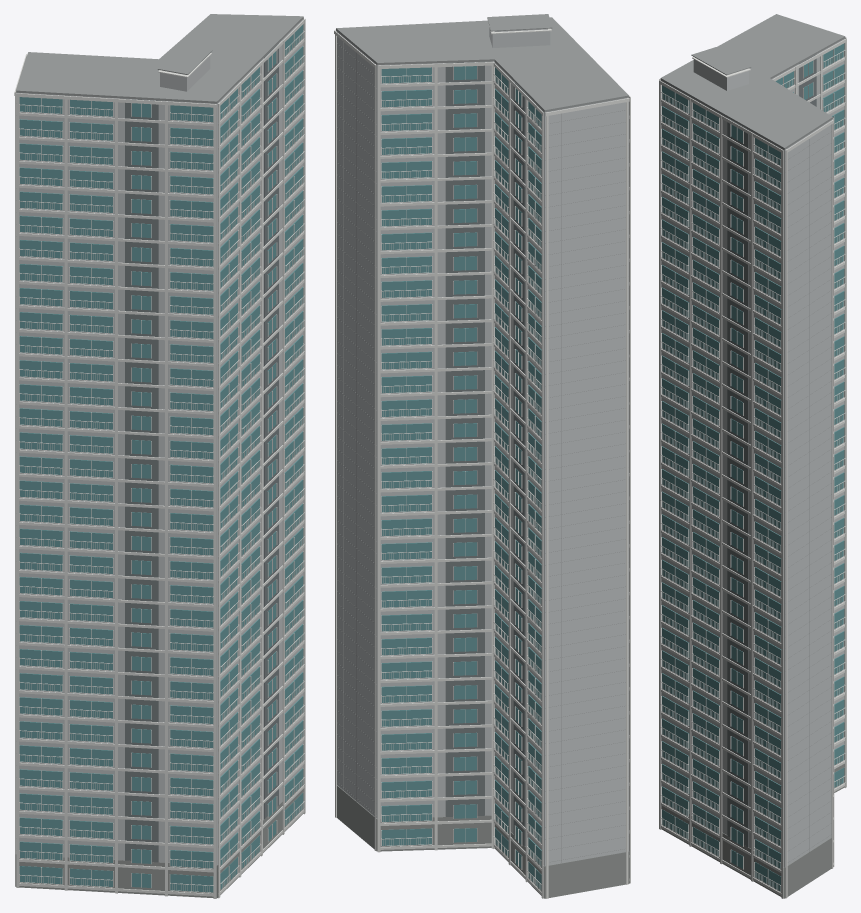
Rendered from bespoke-jamsil-ricenz-246.glb.
3 views of the same model, side by side, from view 1: azimuth 30°, elevation 25°; view 2: azimuth 150°, elevation 25°; view 3: azimuth 270°, elevation 25° (orthographic). The views are drawn at different scales.
Parts seen in each view (by area): view 1: Ricenz246_editable_Ricenz246_turquoise_balcony_glazing, Ricenz246_editable_Ricenz246_light_grey_solid_wall, Ricenz246_white_exact_chunk_1, Ricenz246_white_exact_chunk_0, Ricenz246_editable_Ricenz246_narrow_charcoal_service_strips, Ricenz246_white_exact_chunk_2, Ricenz246_white_exact_chunk_3, Ricenz246_editable_Ricenz246_modest_grey_flat_roof_caps, Ricenz246_editable_Ricenz246_muted_ground_wall; view 2: Ricenz246_editable_Ricenz246_light_grey_solid_wall, Ricenz246_editable_Ricenz246_turquoise_balcony_glazing, Ricenz246_white_exact_chunk_3, Ricenz246_editable_Ricenz246_narrow_charcoal_service_strips, Ricenz246_white_exact_chunk_4, Ricenz246_editable_Ricenz246_modest_grey_flat_roof_caps, Ricenz246_editable_Ricenz246_muted_ground_wall, Ricenz246_white_exact_chunk_0, Ricenz246_white_exact_chunk_1; view 3: Ricenz246_editable_Ricenz246_light_grey_solid_wall, Ricenz246_editable_Ricenz246_turquoise_balcony_glazing, Ricenz246_white_exact_chunk_2, Ricenz246_white_exact_chunk_3, Ricenz246_editable_Ricenz246_modest_grey_flat_roof_caps, Ricenz246_editable_Ricenz246_narrow_charcoal_service_strips, Ricenz246_white_exact_chunk_1, Ricenz246_white_exact_chunk_4, Ricenz246_editable_Ricenz246_muted_ground_wall.
Part boxes in pixels (x1=…): Ricenz246_editable_Ricenz246_turquoise_balcony_glazing: x1=19, y1=24, x2=303, y2=892; Ricenz246_editable_Ricenz246_light_grey_solid_wall: x1=16, y1=19, x2=303, y2=864; Ricenz246_white_exact_chunk_1: x1=16, y1=93, x2=239, y2=898; Ricenz246_white_exact_chunk_0: x1=14, y1=54, x2=114, y2=890; Ricenz246_editable_Ricenz246_narrow_charcoal_service_strips: x1=125, y1=43, x2=278, y2=862; Ricenz246_white_exact_chunk_2: x1=218, y1=50, x2=304, y2=873; Ricenz246_white_exact_chunk_3: x1=218, y1=17, x2=305, y2=898; Ricenz246_editable_Ricenz246_modest_grey_flat_roof_caps: x1=16, y1=14, x2=303, y2=801; Ricenz246_editable_Ricenz246_muted_ground_wall: x1=15, y1=784, x2=303, y2=898; Ricenz246_editable_Ricenz246_light_grey_solid_wall: x1=336, y1=27, x2=628, y2=865; Ricenz246_editable_Ricenz246_turquoise_balcony_glazing: x1=381, y1=66, x2=541, y2=890; Ricenz246_white_exact_chunk_3: x1=334, y1=29, x2=508, y2=861; Ricenz246_editable_Ricenz246_narrow_charcoal_service_strips: x1=445, y1=61, x2=525, y2=846; Ricenz246_white_exact_chunk_4: x1=487, y1=20, x2=551, y2=898; Ricenz246_editable_Ricenz246_modest_grey_flat_roof_caps: x1=336, y1=14, x2=628, y2=862; Ricenz246_editable_Ricenz246_muted_ground_wall: x1=337, y1=785, x2=629, y2=898; Ricenz246_white_exact_chunk_0: x1=545, y1=98, x2=629, y2=898; Ricenz246_white_exact_chunk_1: x1=554, y1=19, x2=630, y2=883; Ricenz246_editable_Ricenz246_light_grey_solid_wall: x1=660, y1=38, x2=845, y2=867; Ricenz246_editable_Ricenz246_turquoise_balcony_glazing: x1=662, y1=43, x2=844, y2=891; Ricenz246_white_exact_chunk_2: x1=661, y1=85, x2=781, y2=895; Ricenz246_white_exact_chunk_3: x1=659, y1=80, x2=834, y2=898; Ricenz246_editable_Ricenz246_modest_grey_flat_roof_caps: x1=660, y1=14, x2=845, y2=862; Ricenz246_editable_Ricenz246_narrow_charcoal_service_strips: x1=727, y1=54, x2=816, y2=846; Ricenz246_white_exact_chunk_1: x1=659, y1=78, x2=689, y2=843; Ricenz246_white_exact_chunk_4: x1=692, y1=38, x2=846, y2=791; Ricenz246_editable_Ricenz246_muted_ground_wall: x1=661, y1=760, x2=844, y2=898.
Size of the model in its own units: 37.57 by 99.44 by 22.05.
